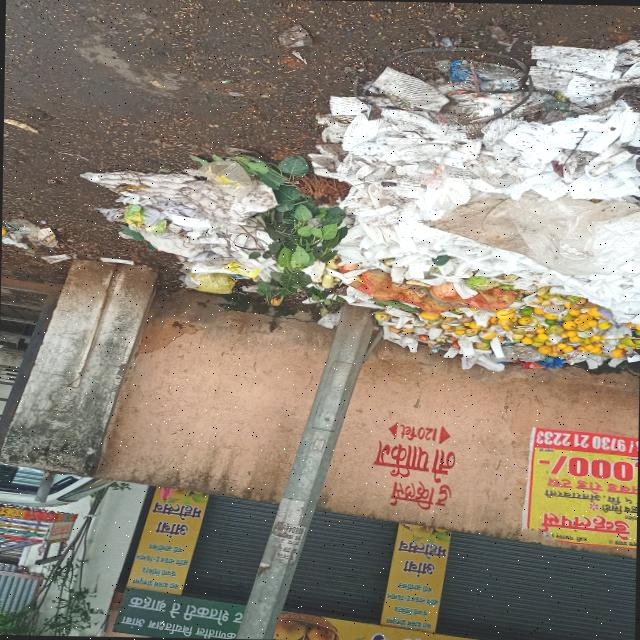garbage: (325, 0, 640, 375), (98, 144, 323, 306)
